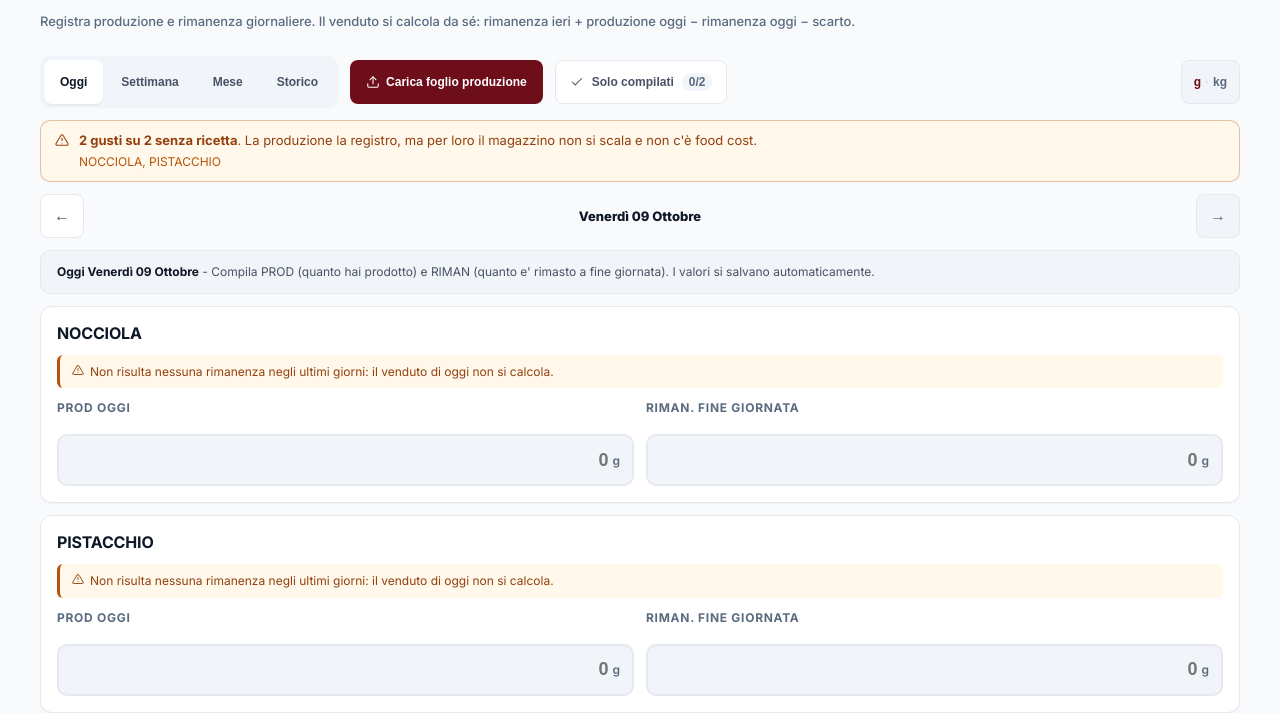
Scenario: produzione sul telefono: settimana e mese a schede › la settimana mostra una scheda per gusto col totale già visibile
The image size is (1280, 713).
What coordinates should you click on to do the following:
click the button "Settimana"
I would click on:
 (150, 82)
Its box is left=105, top=60, right=195, bottom=104.
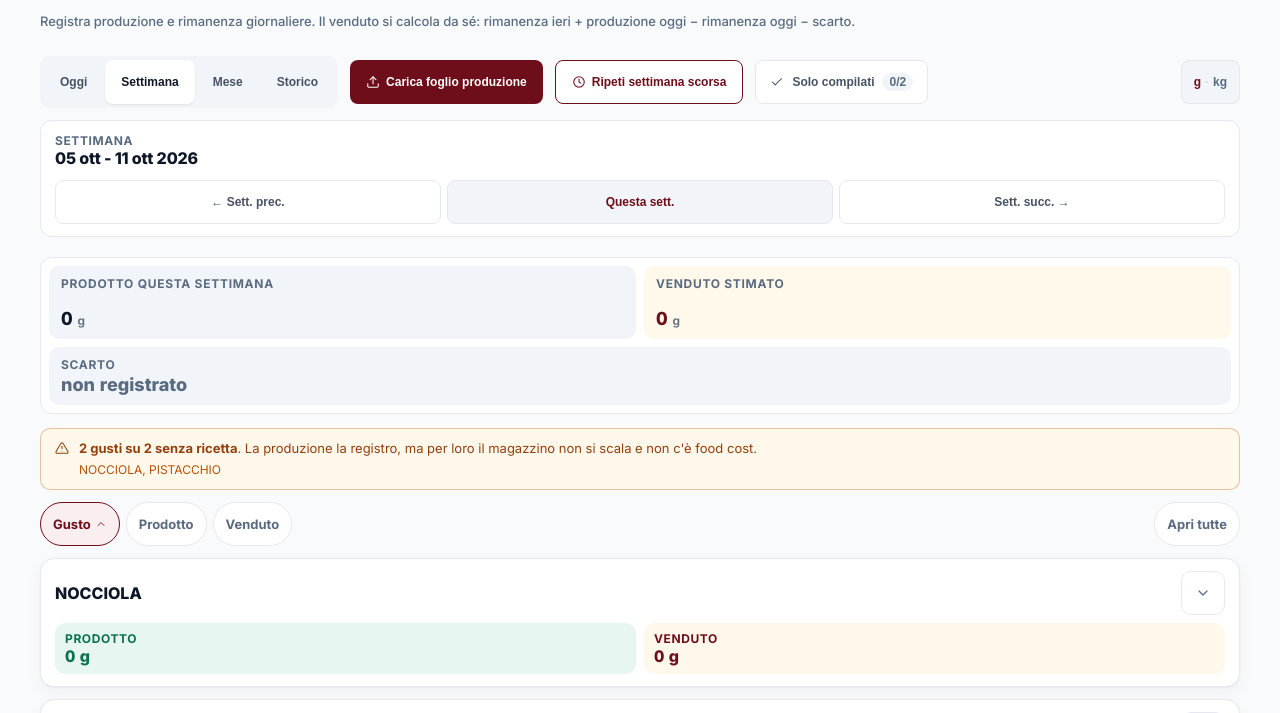
Expected: the text "NOCCIOLA" is shown, left=55, top=583, right=142, bottom=603
Expected: the button "Prodotto" is shown, left=126, top=502, right=207, bottom=546
Expected: the button "Venduto" is shown, left=212, top=502, right=292, bottom=546
